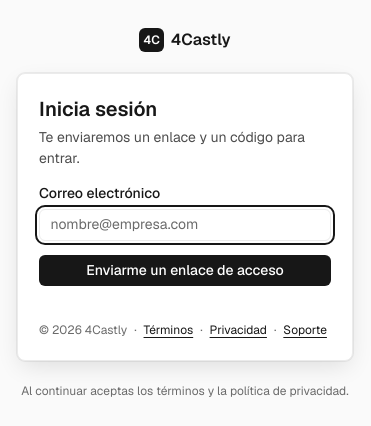
Scenario: LoginPage › invalid_email: rejects a malformed address without calling the service
In the field labelled "Correo electrónico": (185, 225) [50, 214, 320, 235], type "no-es-un-correo"
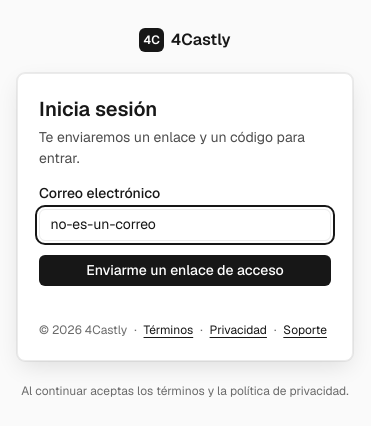
Click the button "Enviarme un enlace de acceso": (185, 270) [39, 255, 331, 286]
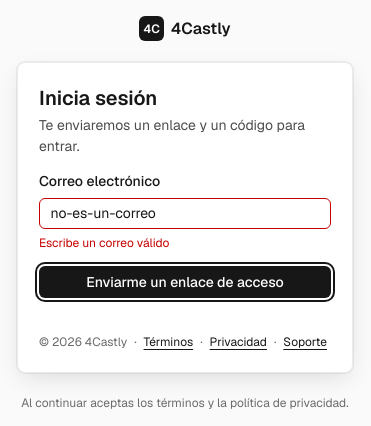
Expected: the message reads "Escribe un correo válido", [39, 235, 169, 251]
